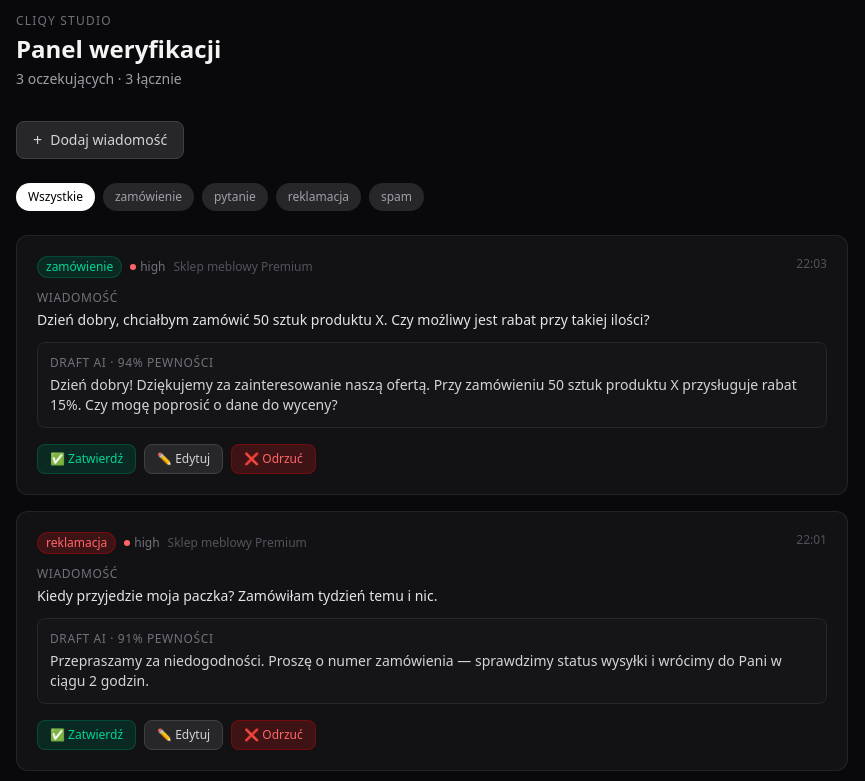
Test: QueuePage › reject action › shows "Odrzucone" label and hides action buttons after rejection
This screenshot has width=865, height=781.
Click the button "❌ Odrzuć" below "91" at (274, 735), box [231,720,316,750]
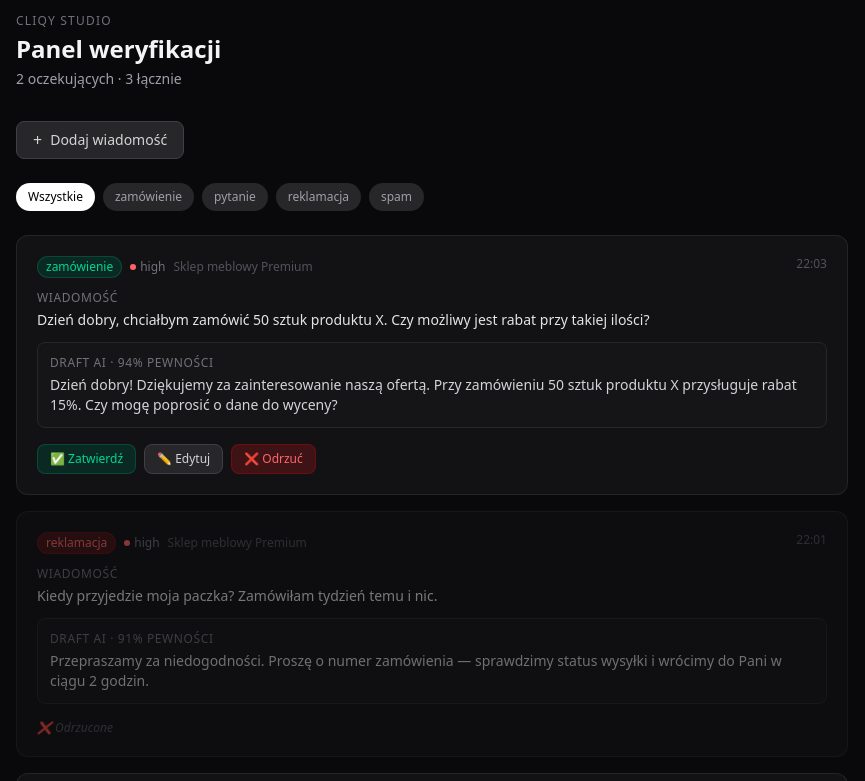
Result: the text "❌ Odrzucone" is shown at [37,719,113,736]
